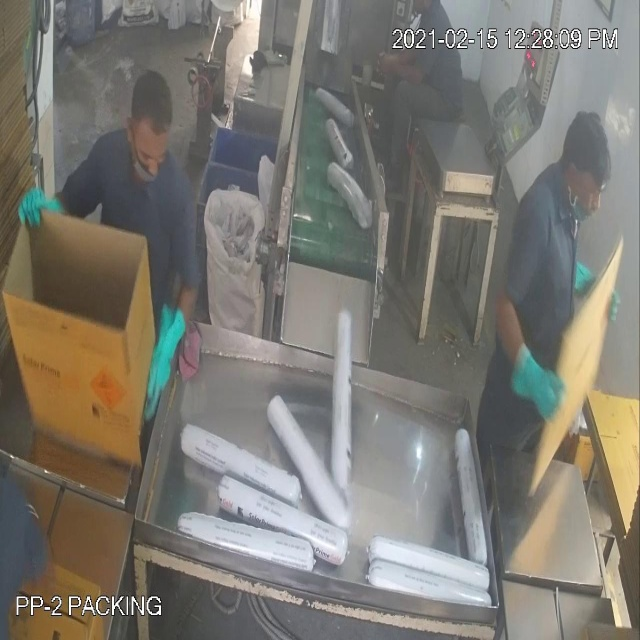Guantes: (498, 294, 577, 438), (132, 284, 194, 422), (568, 252, 621, 329), (17, 186, 75, 246)
Sin_guantes: (377, 33, 437, 98)
